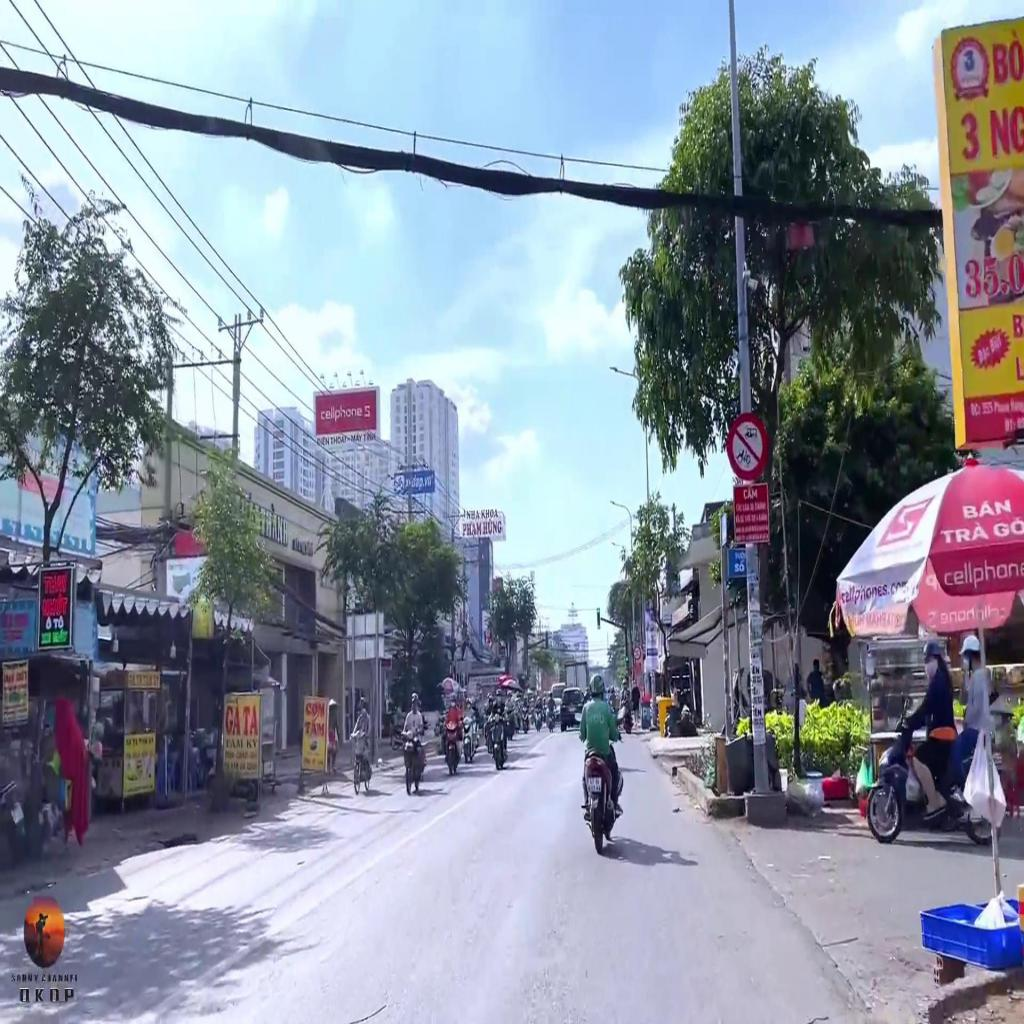cam_cac_loai_xe_3_banh: (727, 408, 770, 484)
